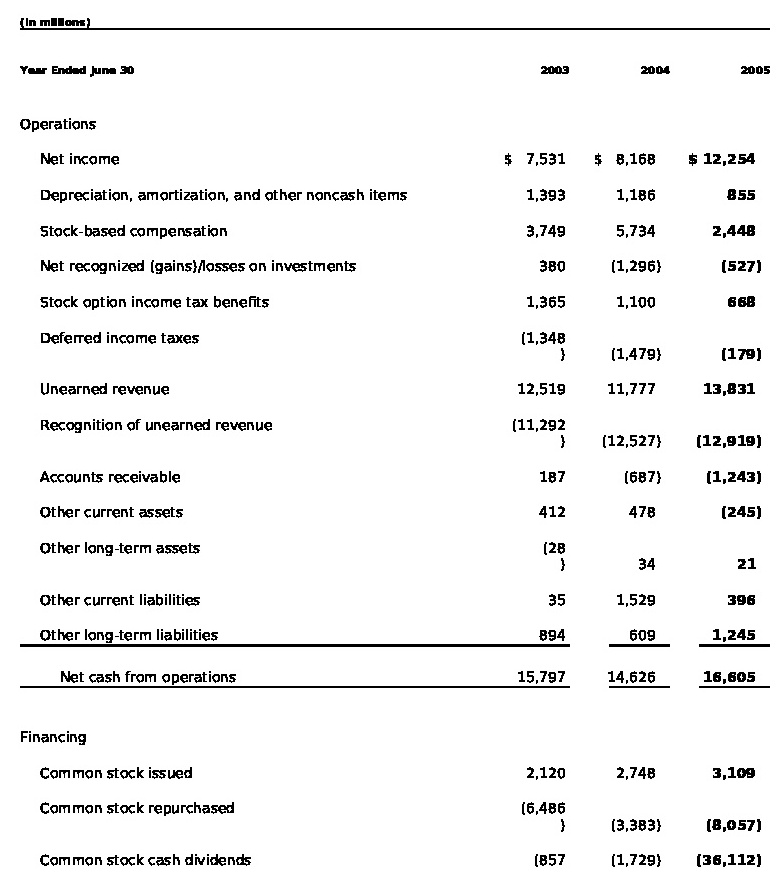table: (0, 0, 784, 887)
